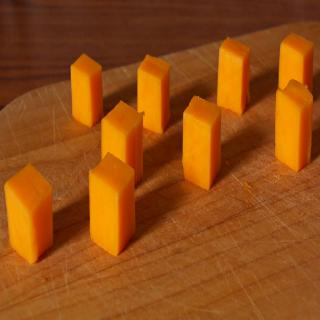Cheese: (3, 160, 55, 265), (89, 151, 134, 259), (182, 94, 224, 191), (100, 99, 145, 184), (275, 79, 314, 174), (136, 56, 171, 136), (218, 34, 251, 116), (69, 52, 104, 129), (278, 34, 313, 90)
